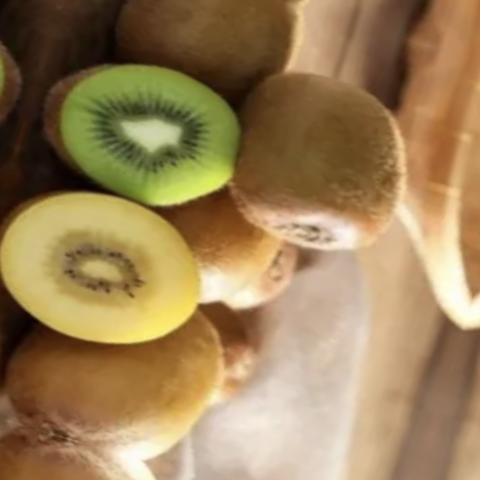kiwi: (0, 241, 275, 480), (211, 45, 439, 284)
